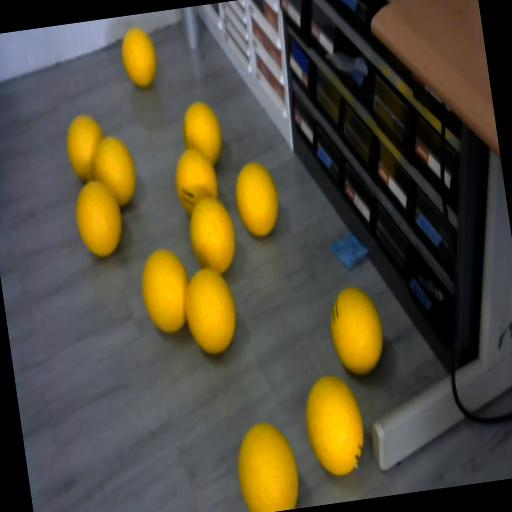FUEL: (298, 370, 370, 480), (231, 418, 302, 512), (178, 262, 242, 358), (326, 283, 388, 377), (137, 246, 195, 336), (184, 193, 240, 277), (230, 160, 284, 239), (89, 134, 141, 212), (180, 99, 226, 168), (118, 24, 160, 90)
